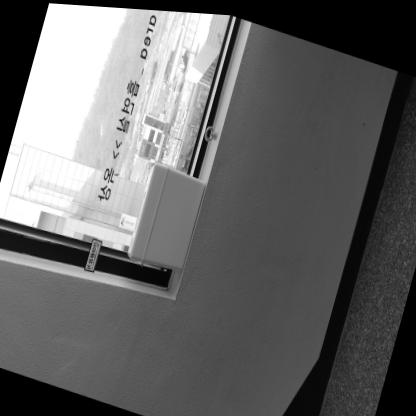DDL: (125, 155, 208, 275)
